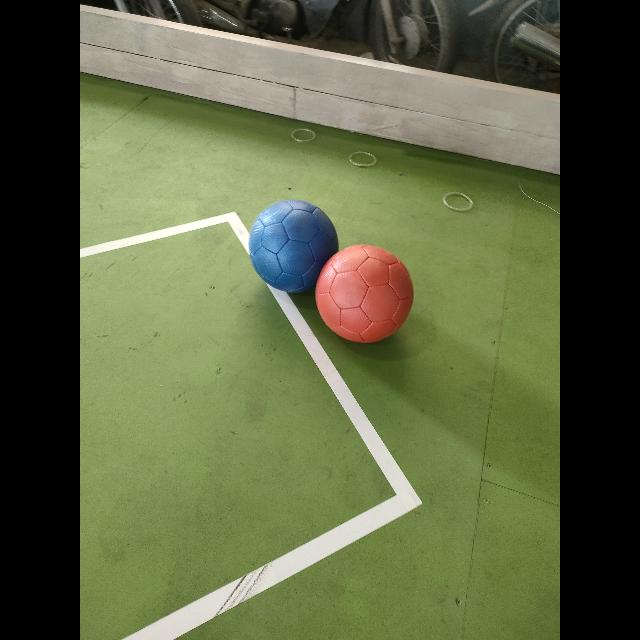B: (250, 200, 339, 292)
R: (316, 245, 414, 342)
